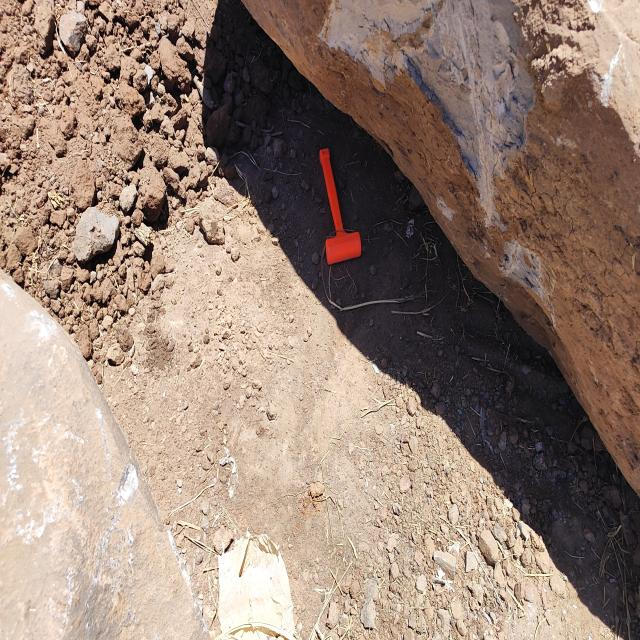Orange_hammer: (318, 147, 362, 266)
